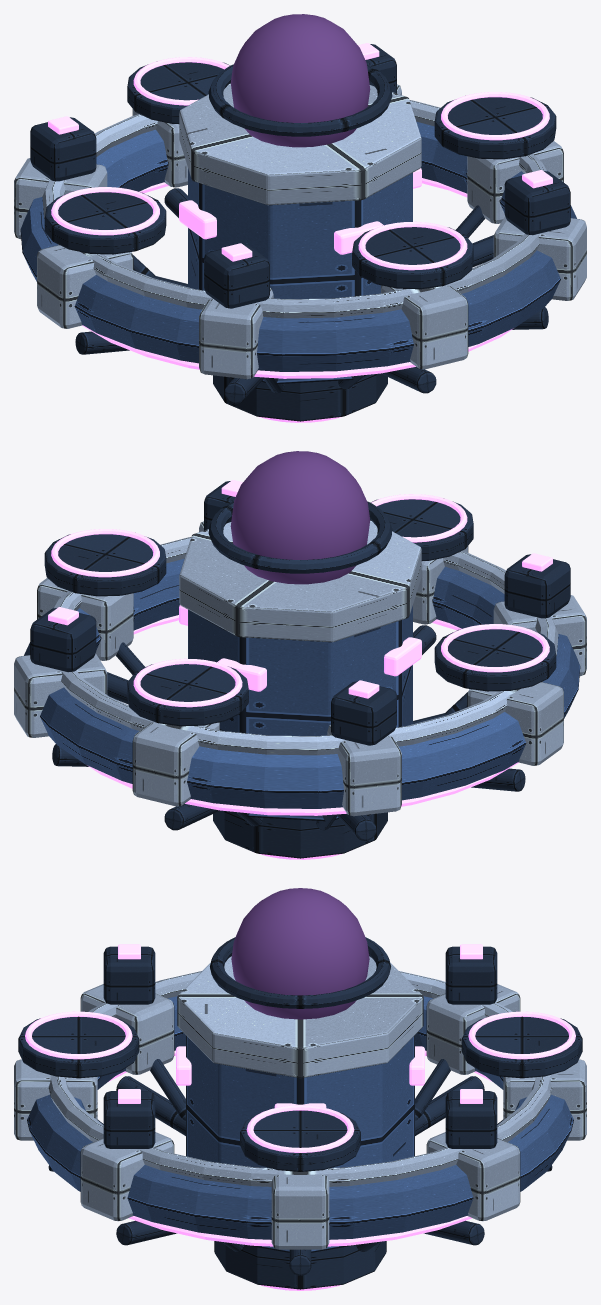
The model's file is nova.glb.
The picture shows the model from 3 angles, top to bottom: view 1: azimuth 30°, elevation 25°; view 2: azimuth 150°, elevation 25°; view 3: azimuth 270°, elevation 25°; orthographic projection.
Parts seen in each view (by area): view 1: Surface_Ceramic_Armor, Surface_Brushed_Steel, Surface_Titanium_Panels, Surface_nova_Glazed_Optics, Surface_nova_Reactor; view 2: Surface_Ceramic_Armor, Surface_Brushed_Steel, Surface_Titanium_Panels, Surface_nova_Glazed_Optics, Surface_nova_Reactor; view 3: Surface_Ceramic_Armor, Surface_Brushed_Steel, Surface_Titanium_Panels, Surface_nova_Glazed_Optics, Surface_nova_Reactor.
Part boxes in pixels (x1=…): Surface_Ceramic_Armor: x1=14, y1=83, x2=586, y2=379; Surface_Brushed_Steel: x1=30, y1=44, x2=570, y2=421; Surface_Titanium_Panels: x1=20, y1=121, x2=576, y2=384; Surface_nova_Glazed_Optics: x1=230, y1=14, x2=370, y2=147; Surface_nova_Reactor: x1=48, y1=43, x2=552, y2=422; Surface_Ceramic_Armor: x1=14, y1=520, x2=586, y2=816; Surface_Brushed_Steel: x1=30, y1=481, x2=570, y2=858; Surface_Titanium_Panels: x1=24, y1=558, x2=580, y2=821; Surface_nova_Glazed_Optics: x1=230, y1=451, x2=370, y2=584; Surface_nova_Reactor: x1=48, y1=480, x2=552, y2=859; Surface_Ceramic_Armor: x1=14, y1=956, x2=586, y2=1249; Surface_Brushed_Steel: x1=18, y1=937, x2=582, y2=1289; Surface_Titanium_Panels: x1=27, y1=996, x2=573, y2=1252; Surface_nova_Glazed_Optics: x1=231, y1=888, x2=369, y2=1019; Surface_nova_Reactor: x1=25, y1=944, x2=575, y2=1290.
Size of the model in its own units: 1.99 by 1.42 by 1.99.
Materials: 5 (3 with a texture image).
